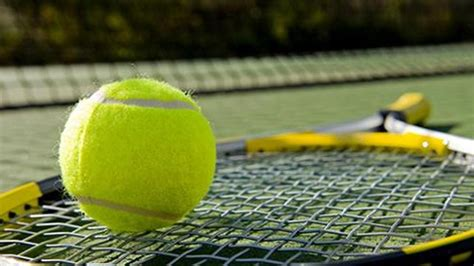tennis_ball: (59, 77, 217, 233)
